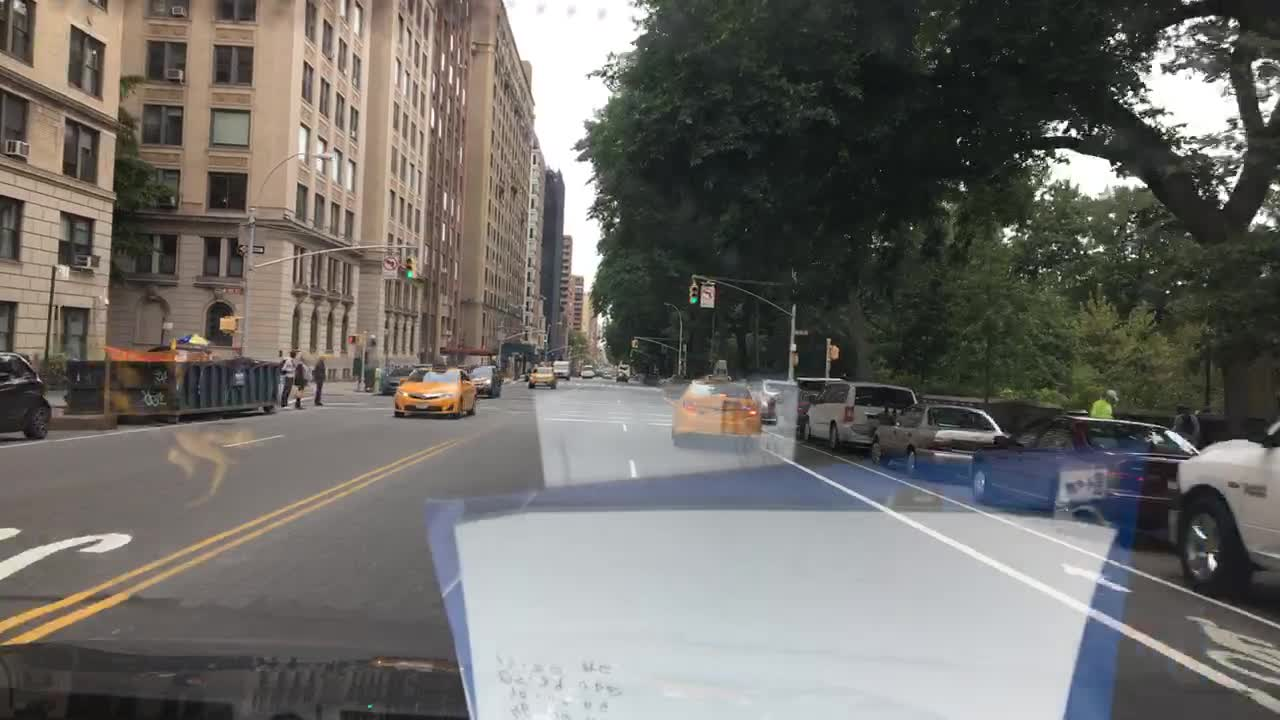bus: (617, 361, 631, 381)
car: (968, 408, 1200, 548), (1161, 418, 1279, 597), (867, 401, 1004, 474), (668, 356, 766, 454), (796, 383, 918, 450), (393, 353, 476, 425), (766, 374, 845, 435), (0, 349, 52, 440), (749, 374, 795, 418), (465, 364, 503, 401), (379, 364, 413, 395), (526, 364, 558, 391), (550, 359, 570, 378), (579, 361, 595, 380)
person: (288, 349, 312, 415), (1169, 400, 1205, 444), (275, 347, 295, 412), (1086, 385, 1120, 417), (310, 354, 327, 407)
traffic light: (217, 314, 239, 334), (685, 280, 698, 304), (405, 253, 415, 280), (827, 342, 840, 361), (346, 331, 361, 347)
traffic sign: (379, 255, 400, 280), (236, 239, 266, 253), (698, 287, 715, 307), (222, 285, 246, 295), (793, 324, 810, 336)
